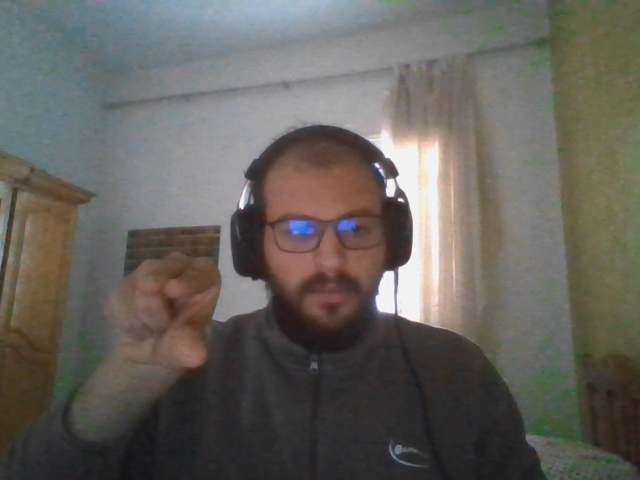No: (107, 251, 214, 368)
